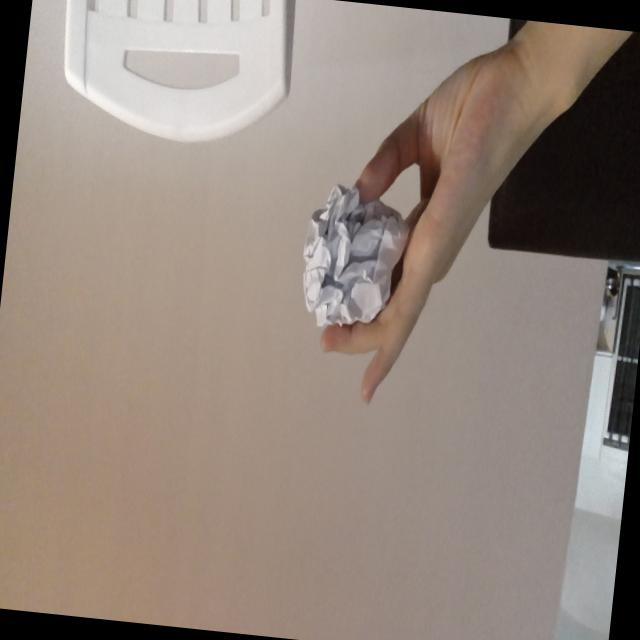crumpled_paper: (293, 175, 414, 341)
